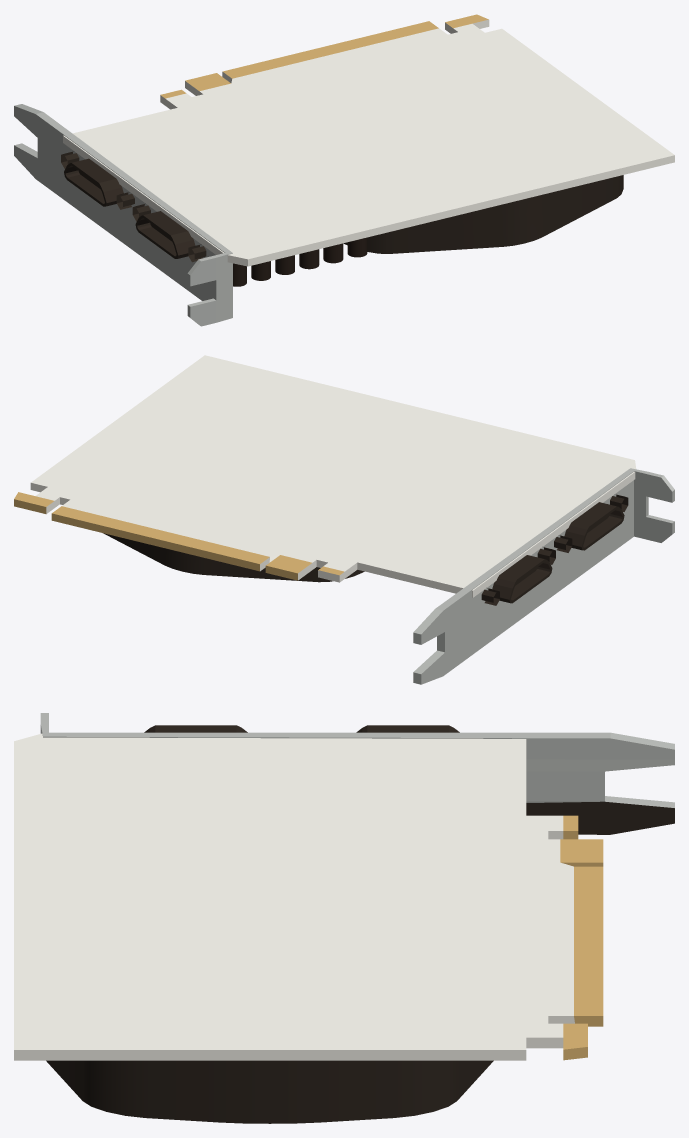
Rendered from gen2.glb.
The picture shows the model from 3 angles, top to bottom: view 1: azimuth 30°, elevation 25°; view 2: azimuth 150°, elevation 25°; view 3: azimuth 270°, elevation 25°; orthographic projection. The views are drawn at different scales.
Parts seen in each view (by area): view 1: Cube012_1; view 2: Cube012_1; view 3: Cube012_1.
Part boxes in pixels (bbox=[...]): Cube012_1: bbox=[14, 14, 674, 326]; Cube012_1: bbox=[14, 355, 674, 684]; Cube012_1: bbox=[14, 713, 674, 1123].
Bounding box in the file's own units: 0.7788 × 0.1018 × 0.6327.
1 material, 1 textured.
